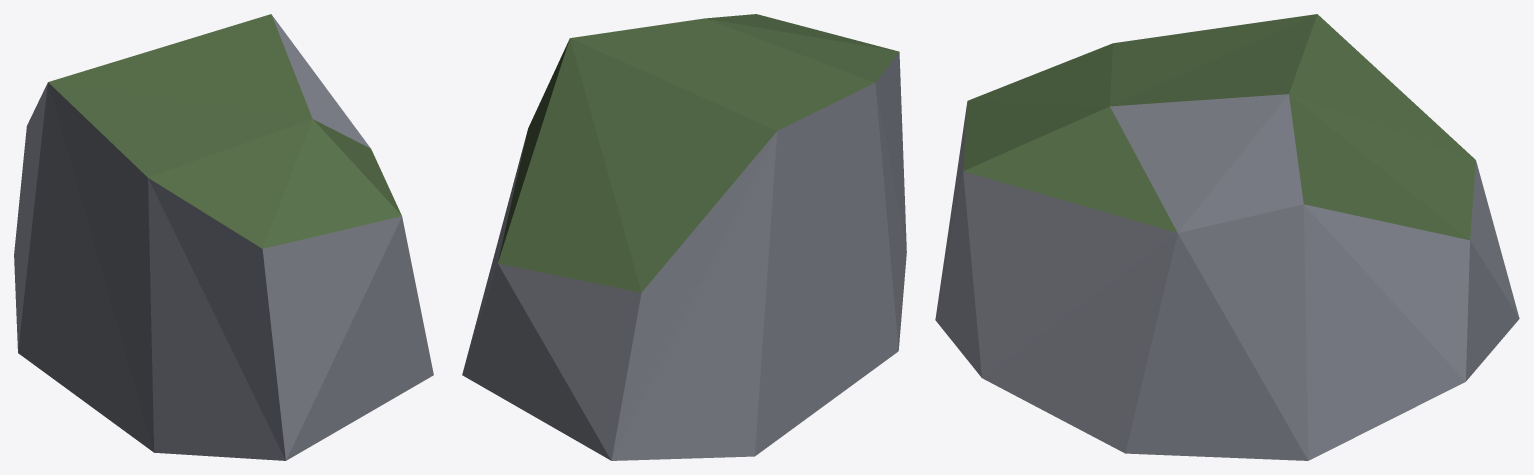
The model's file is Rock_Moss_4.lod2.glb.
3 renders of one model, left to right at view 1: azimuth 30°, elevation 25°; view 2: azimuth 150°, elevation 25°; view 3: azimuth 270°, elevation 25°, orthographic. The views are drawn at different scales.
Visible parts, largest first — view 1: Rock_Moss_4; view 2: Rock_Moss_4; view 3: Rock_Moss_4.
Boxes of the visible parts, x1=… form: Rock_Moss_4: x1=14, y1=14, x2=433, y2=460; Rock_Moss_4: x1=462, y1=14, x2=906, y2=460; Rock_Moss_4: x1=935, y1=14, x2=1519, y2=460.
Bounding box in the file's own units: 0.7207 × 0.7408 × 1.17.
